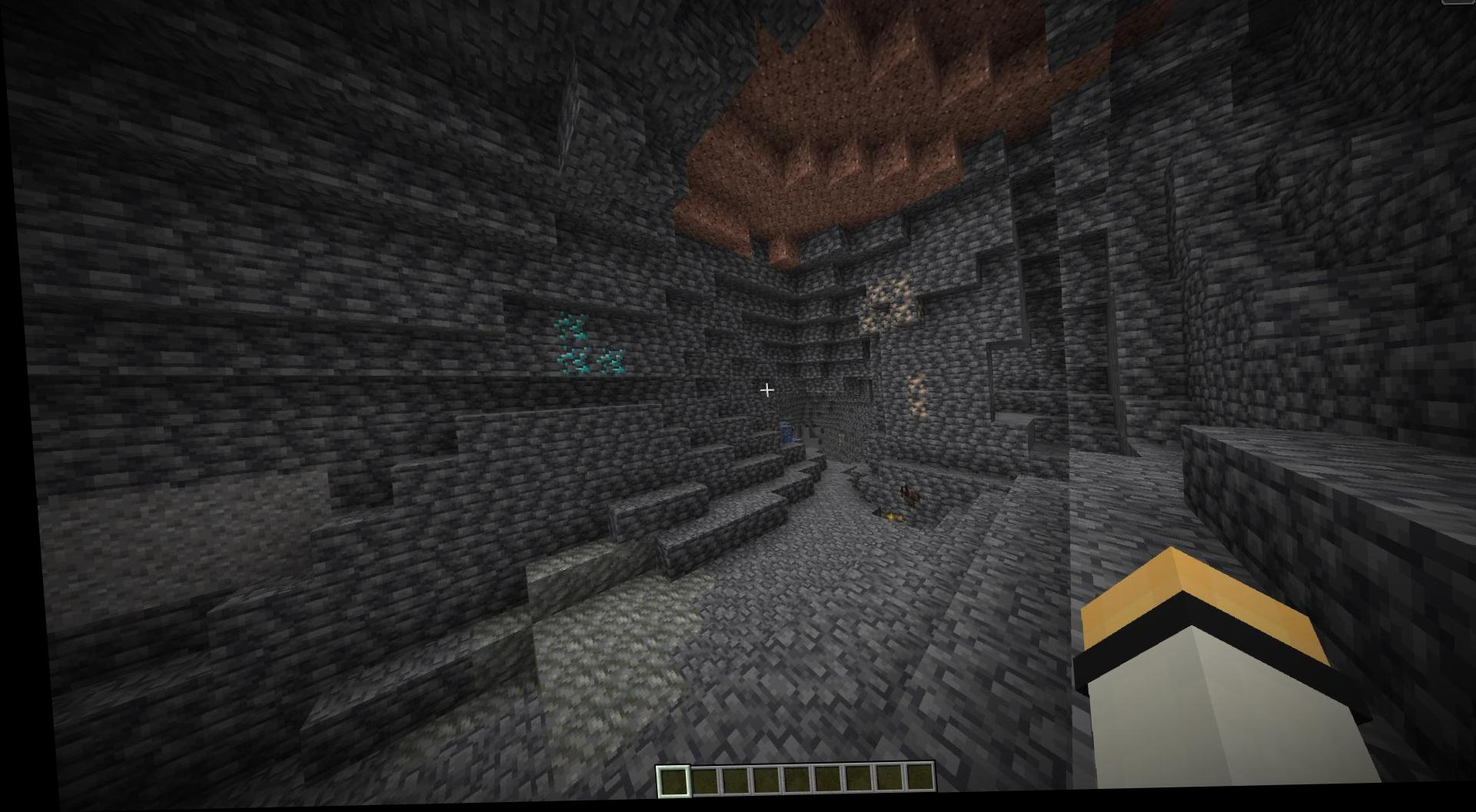diamond ore: (548, 308, 586, 347), (550, 345, 589, 381), (585, 347, 625, 381)
iron ore: (882, 276, 912, 302), (861, 282, 885, 308), (853, 315, 879, 338), (885, 306, 914, 326), (901, 401, 927, 423), (902, 374, 924, 399)
